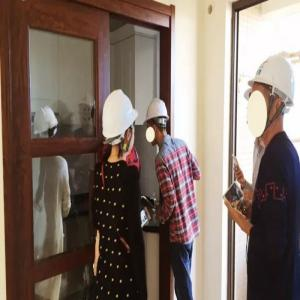white: (248, 50, 295, 141), (101, 90, 138, 156), (146, 96, 171, 149), (34, 107, 62, 145)
